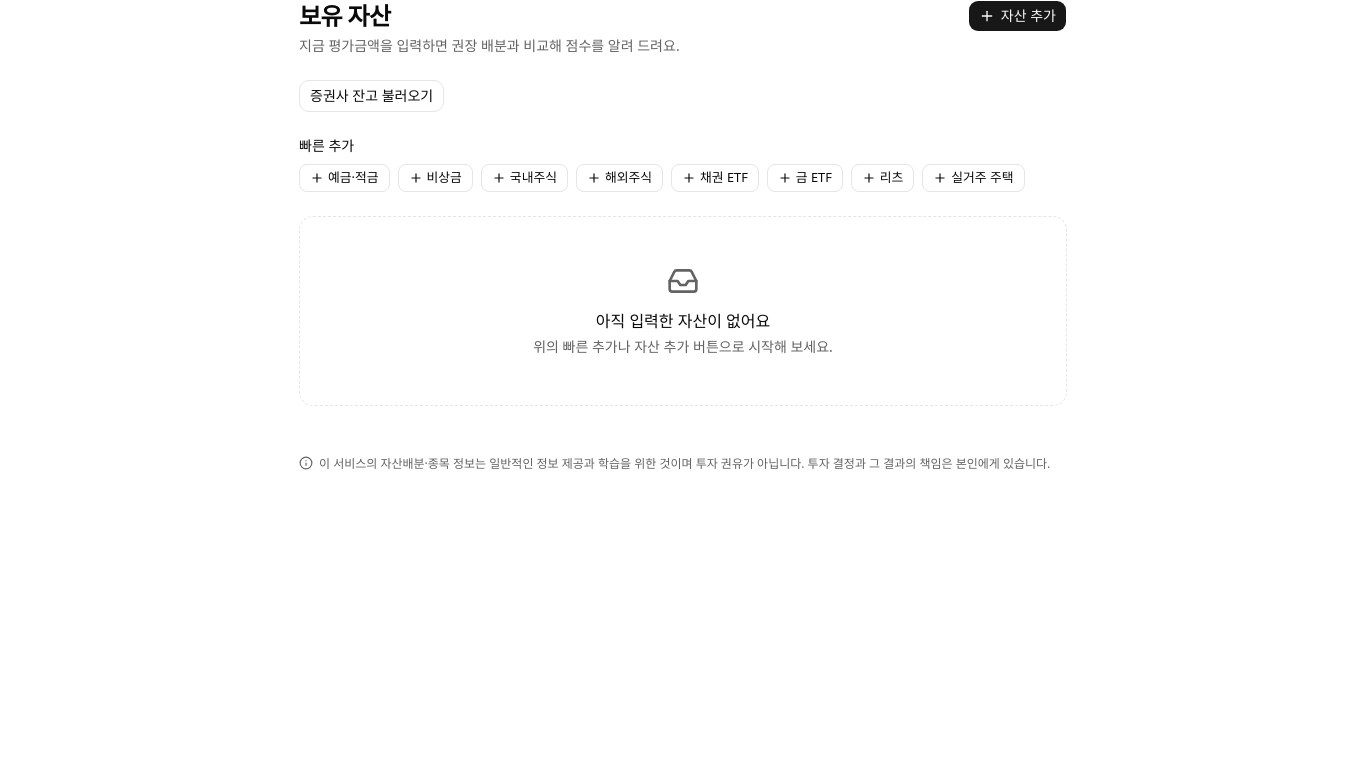
Scenario: 보유 자산(9.3) › 서버 검증 에러는 필드 아래에 보여 준다
Click the button "국내주식": (524, 178) [481, 164, 568, 192]
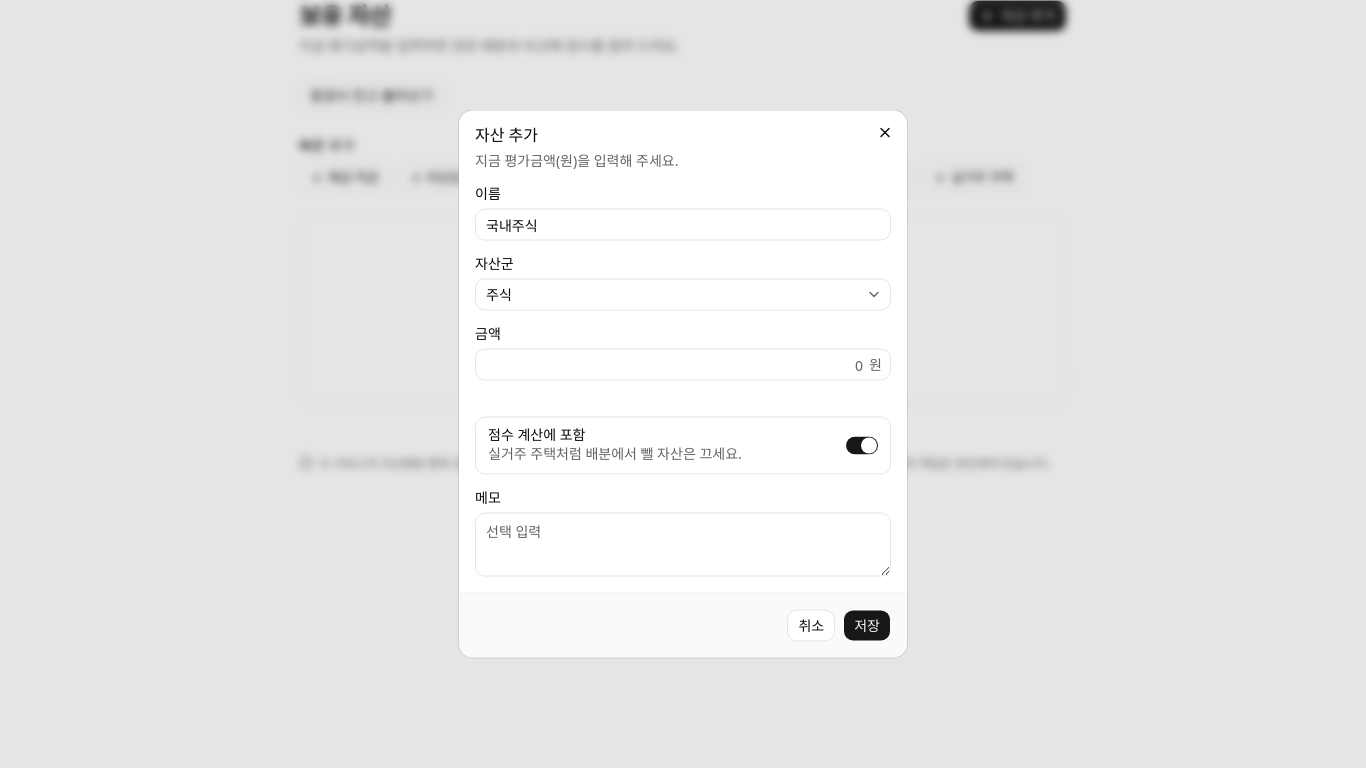
In the field labelled "금액": (673, 364) [476, 348, 869, 380], type "1000"
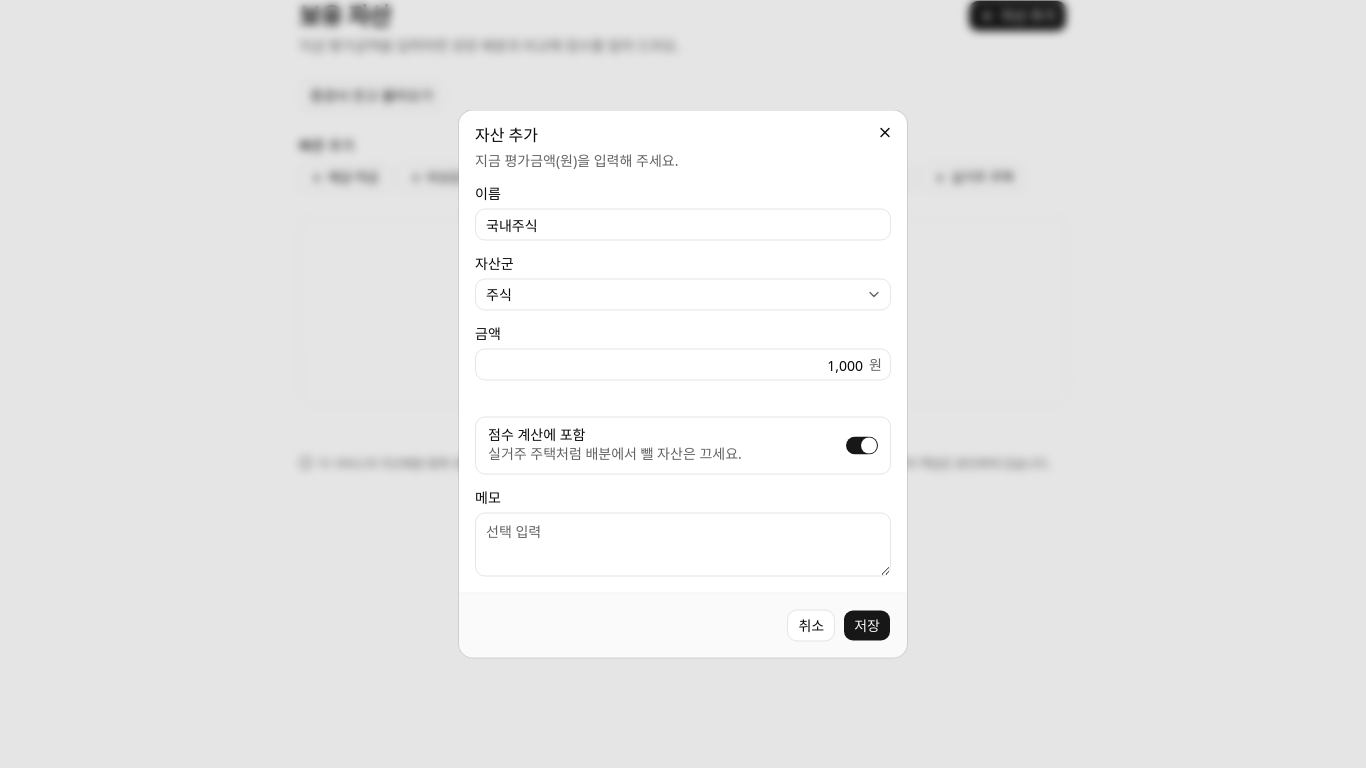
Click the button "저장": (867, 626) [843, 610, 891, 642]
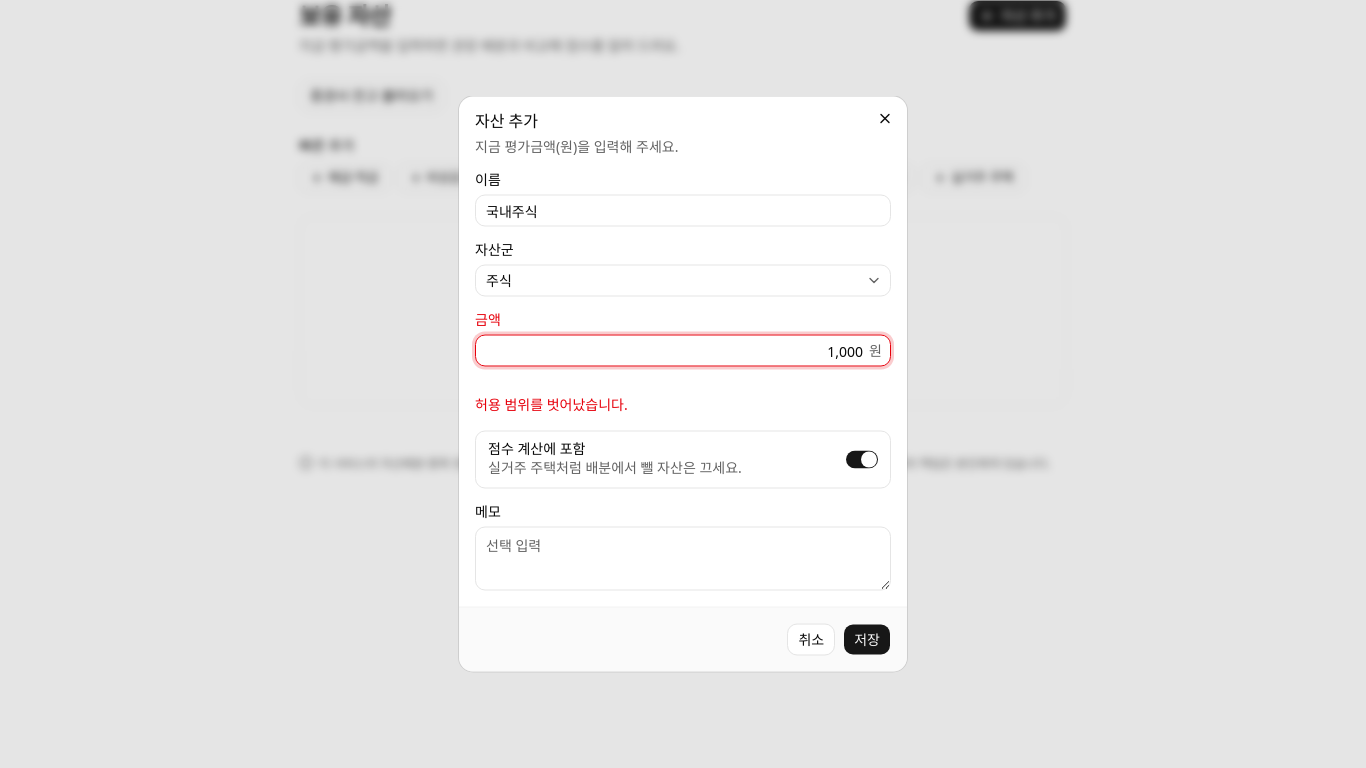
Expected: the text "허용 범위를 벗어났습니다." is shown, [475, 394, 628, 414]
